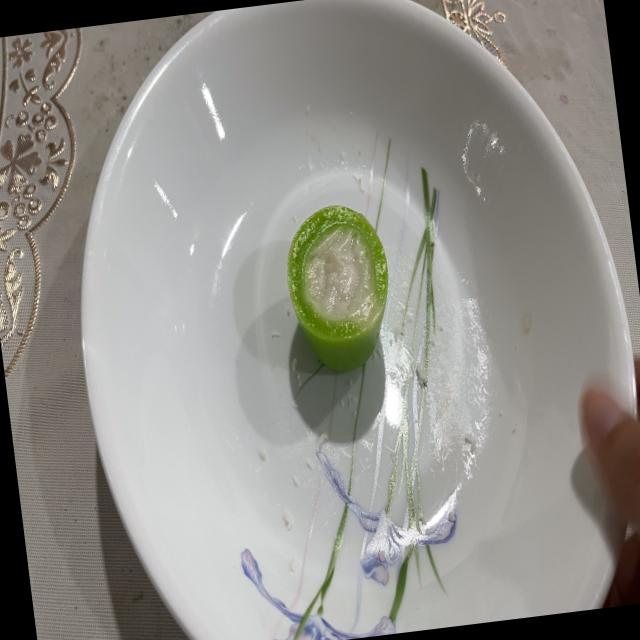nona-manis: (287, 205, 388, 371)
